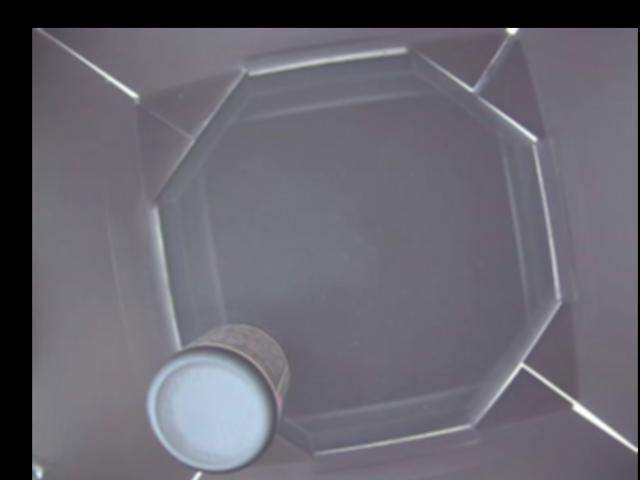Bottle: (148, 320, 290, 472)
